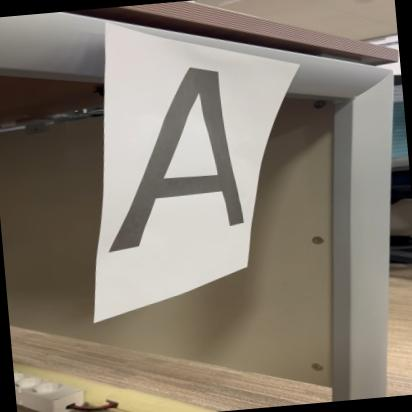seat: (70, 41, 292, 277)
